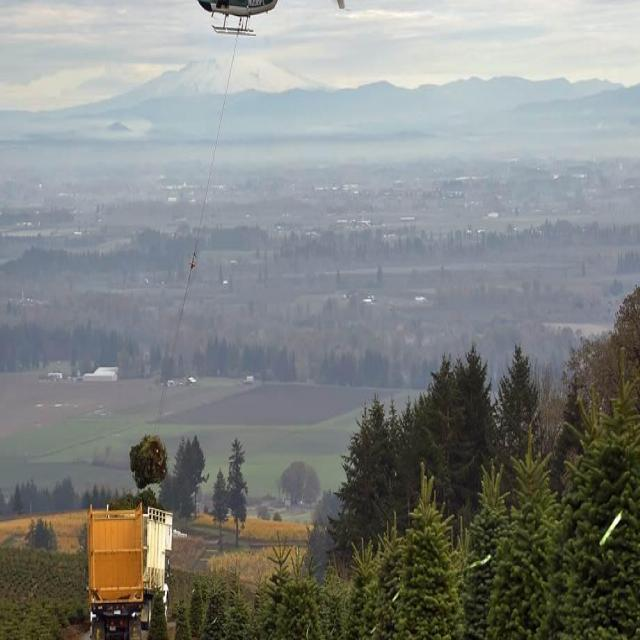helicopter: (197, 1, 353, 33)
